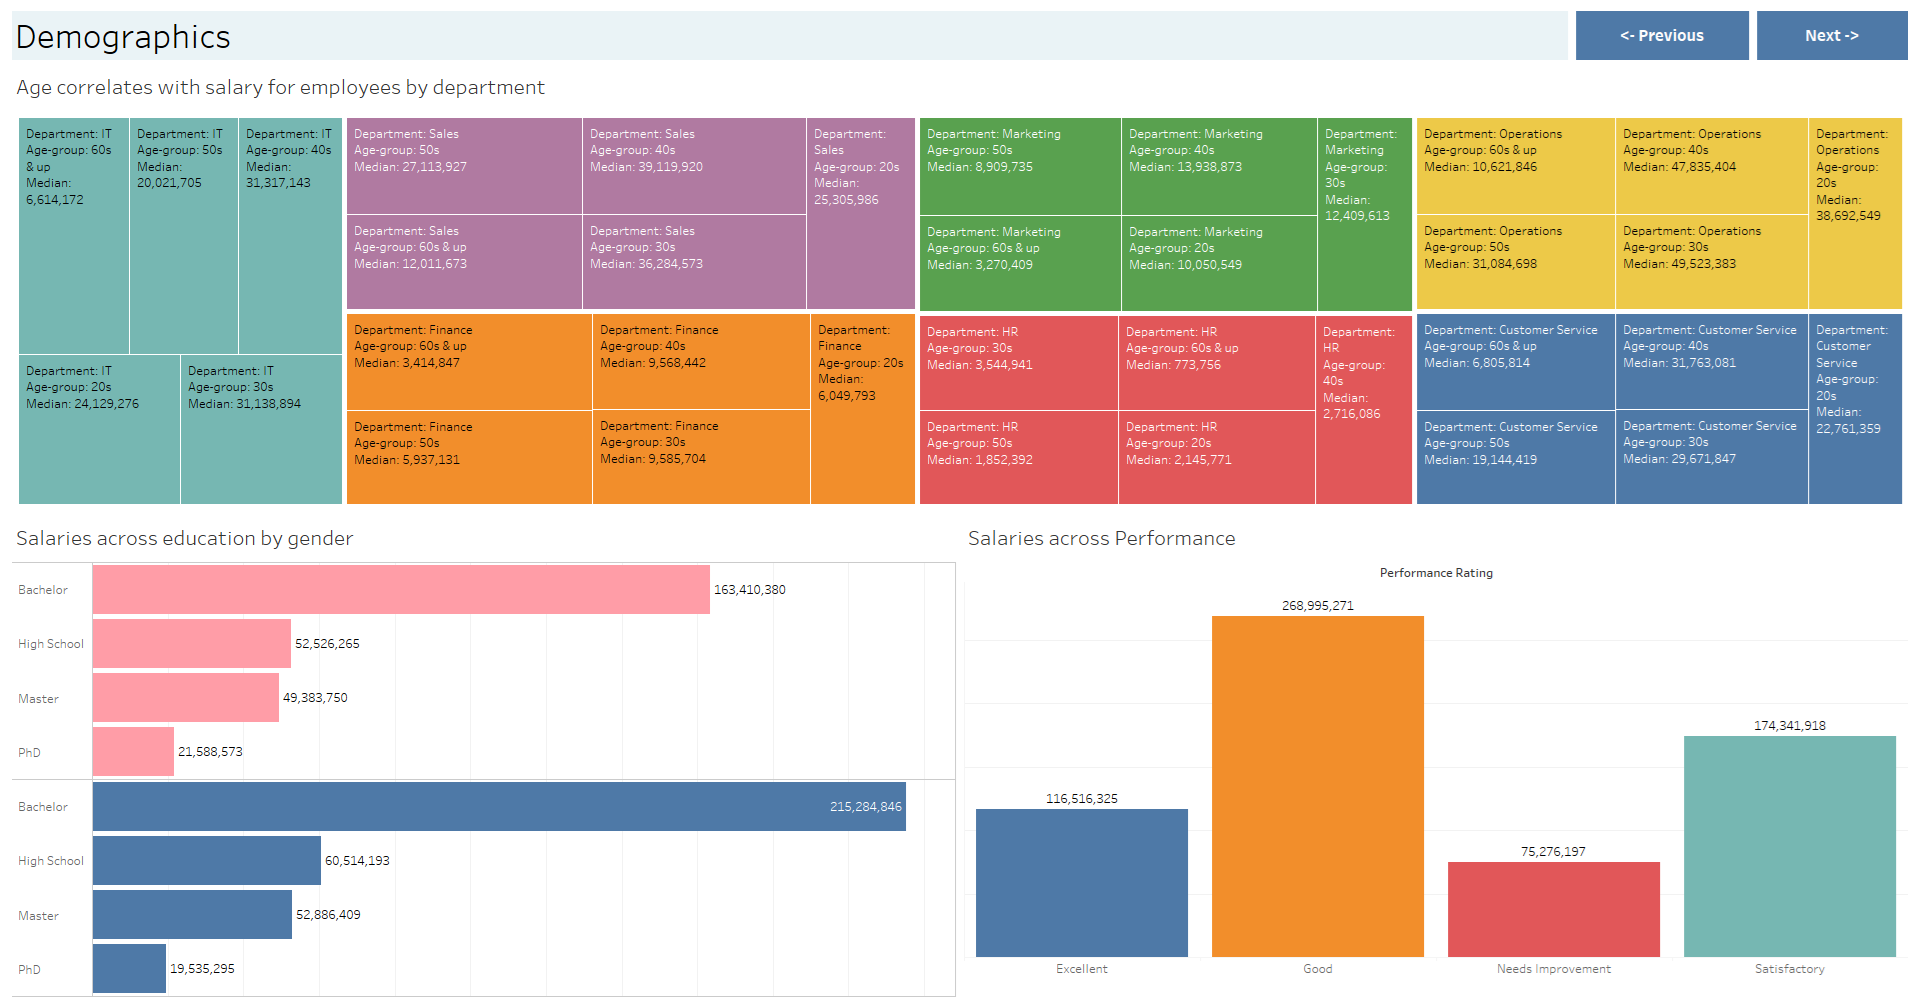

This screenshot's page, from the dashboard's own definition file:
{"tool":"tableau","page":{"name":"Income","canvas":[1000,1000],"units":"permille","ordinal":3},"visuals":[{"type":"text","box":[4,7.1,814.6,57]},{"type":"dashboard-object","box":[818.7,7.1,94.4,57]},{"type":"dashboard-object","box":[913.1,7.1,82.9,57]},{"type":"worksheet","title":"Age correlates with salary for employees by department","mark":"Automatic","box":[4,64.1,991.9,447]},{"type":"worksheet","title":"Salaries across education by gender","mark":"Automatic","rows":["Gender","Education Level"],"cols":["Salary"],"box":[4,511.1,495.9,481.8]},{"type":"worksheet","title":"Salaries across Performance","mark":"Automatic","rows":["Salary"],"cols":["Performance Rating"],"box":[500,511.1,495.9,481.8]}]}

Visuals, with their boxes on the dashboard's canvas, which has no fixed pixel size, in thousandths of its width and height (x1, y1, x2, y2). These are canvas units, not pixel positions in the 1908x1000 screenshot, which may show the page scaled, cropped or inside an application window:
text: <box>4,7,819,64</box>
dashboard-object: <box>819,7,913,64</box>
dashboard-object: <box>913,7,996,64</box>
"Age correlates with salary for employees by department" worksheet: <box>4,64,996,511</box>
"Salaries across education by gender" worksheet: <box>4,511,500,993</box>
"Salaries across Performance" worksheet: <box>500,511,996,993</box>
